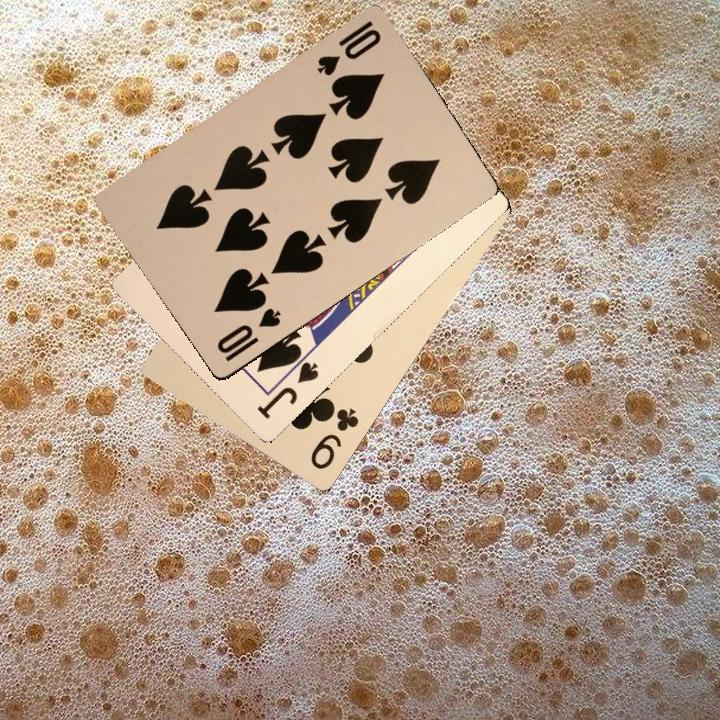10s: (312, 16, 384, 79), (213, 303, 284, 364)
9c: (306, 404, 362, 473)
Js: (252, 351, 322, 422)
